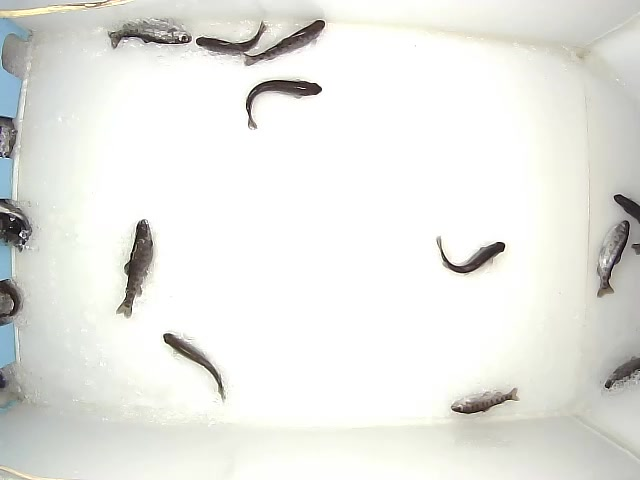fish: (163, 333, 227, 402), (246, 80, 322, 130), (243, 20, 325, 66), (116, 219, 153, 319), (108, 18, 192, 50), (436, 236, 505, 274), (597, 220, 630, 298), (196, 20, 268, 54), (451, 387, 520, 415), (614, 194, 640, 255), (605, 355, 640, 390)
